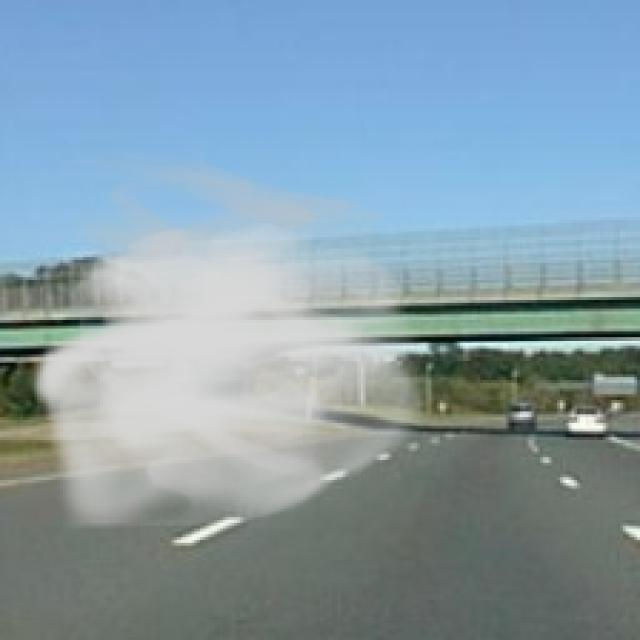smoke: (29, 149, 440, 540)
